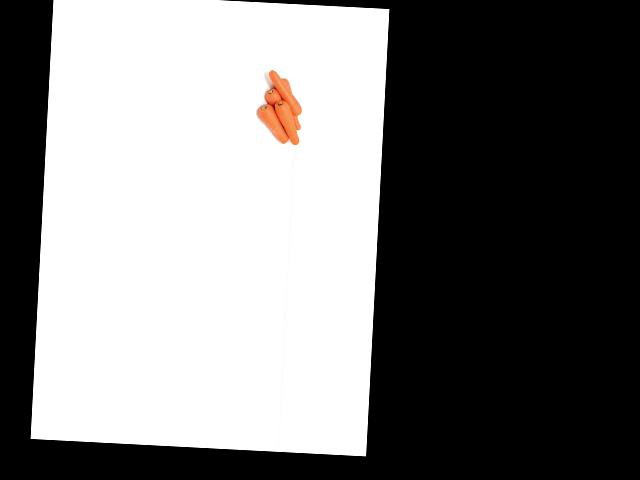carrot: (250, 98, 291, 145)
